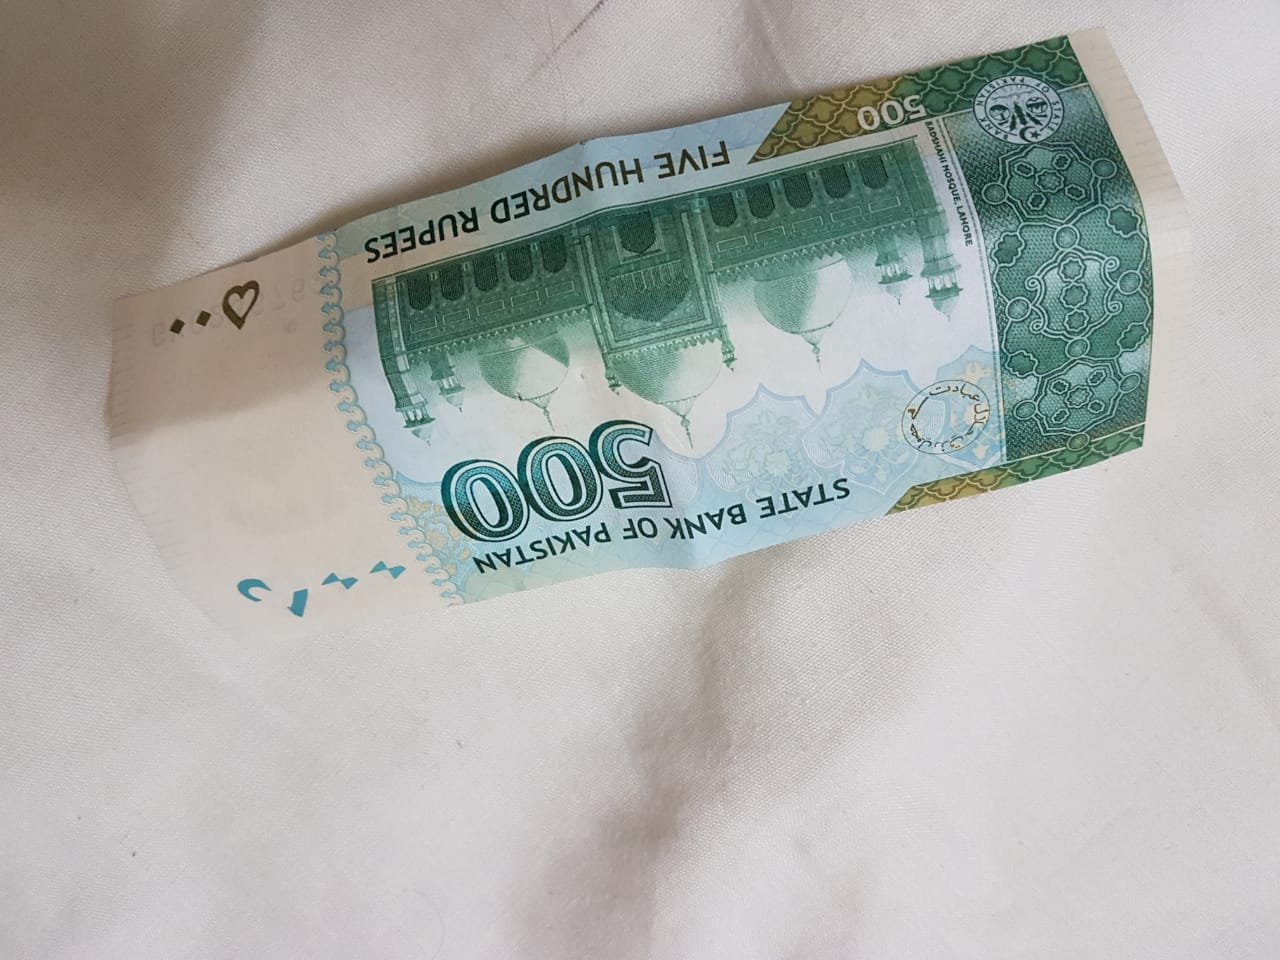500 rupee: (52, 47, 1236, 717)
